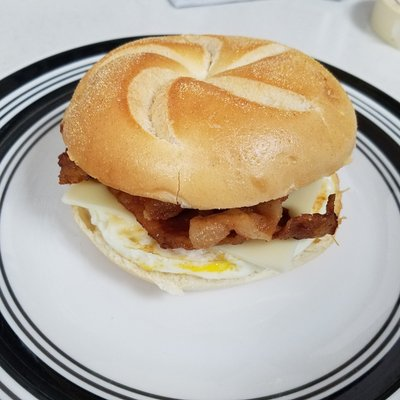soup: (55, 34, 354, 291)
